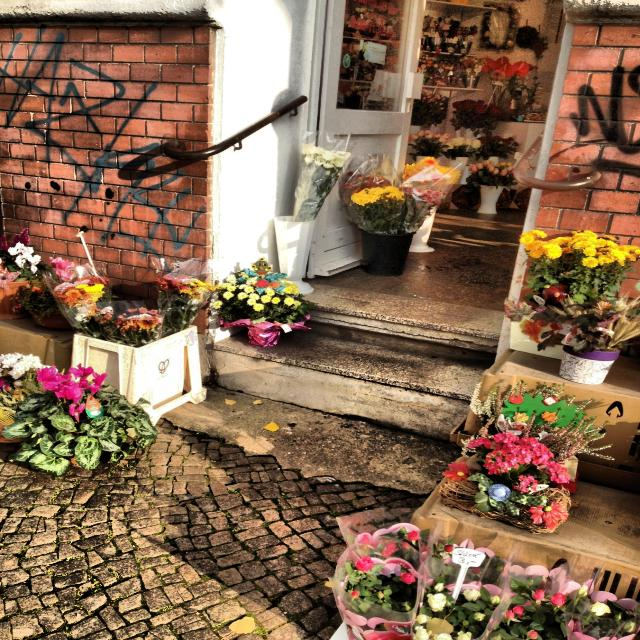escada: (188, 281, 504, 448)
